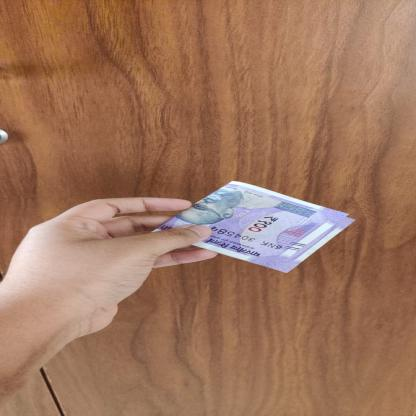New100Front: (152, 180, 359, 274)
